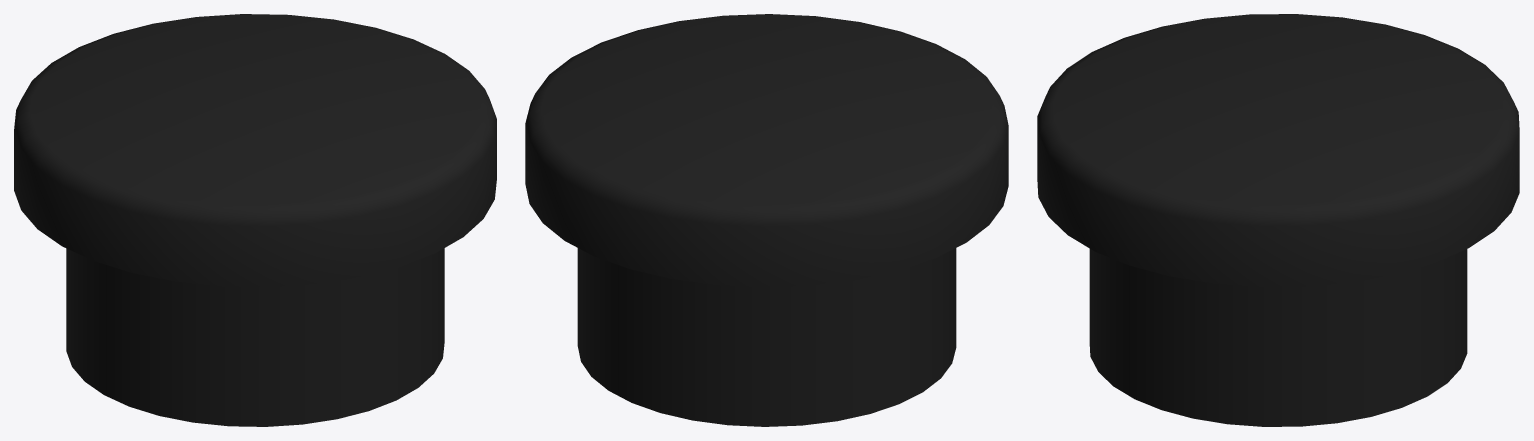
Rendered from SM_硼酸盖子.fbx.
3 renders of one model, left to right at view 1: azimuth 30°, elevation 25°; view 2: azimuth 150°, elevation 25°; view 3: azimuth 270°, elevation 25°, orthographic.
Parts seen in each view (by area): view 1: SM_硼酸盖子; view 2: SM_硼酸盖子; view 3: SM_硼酸盖子.
Boxes of the visible parts, x1,y1,x2,y2 form: SM_硼酸盖子: (14, 14, 496, 426); SM_硼酸盖子: (525, 14, 1008, 426); SM_硼酸盖子: (1037, 14, 1519, 426).
Size of the model in its own units: 0.0311 by 0.0169 by 0.0311.
